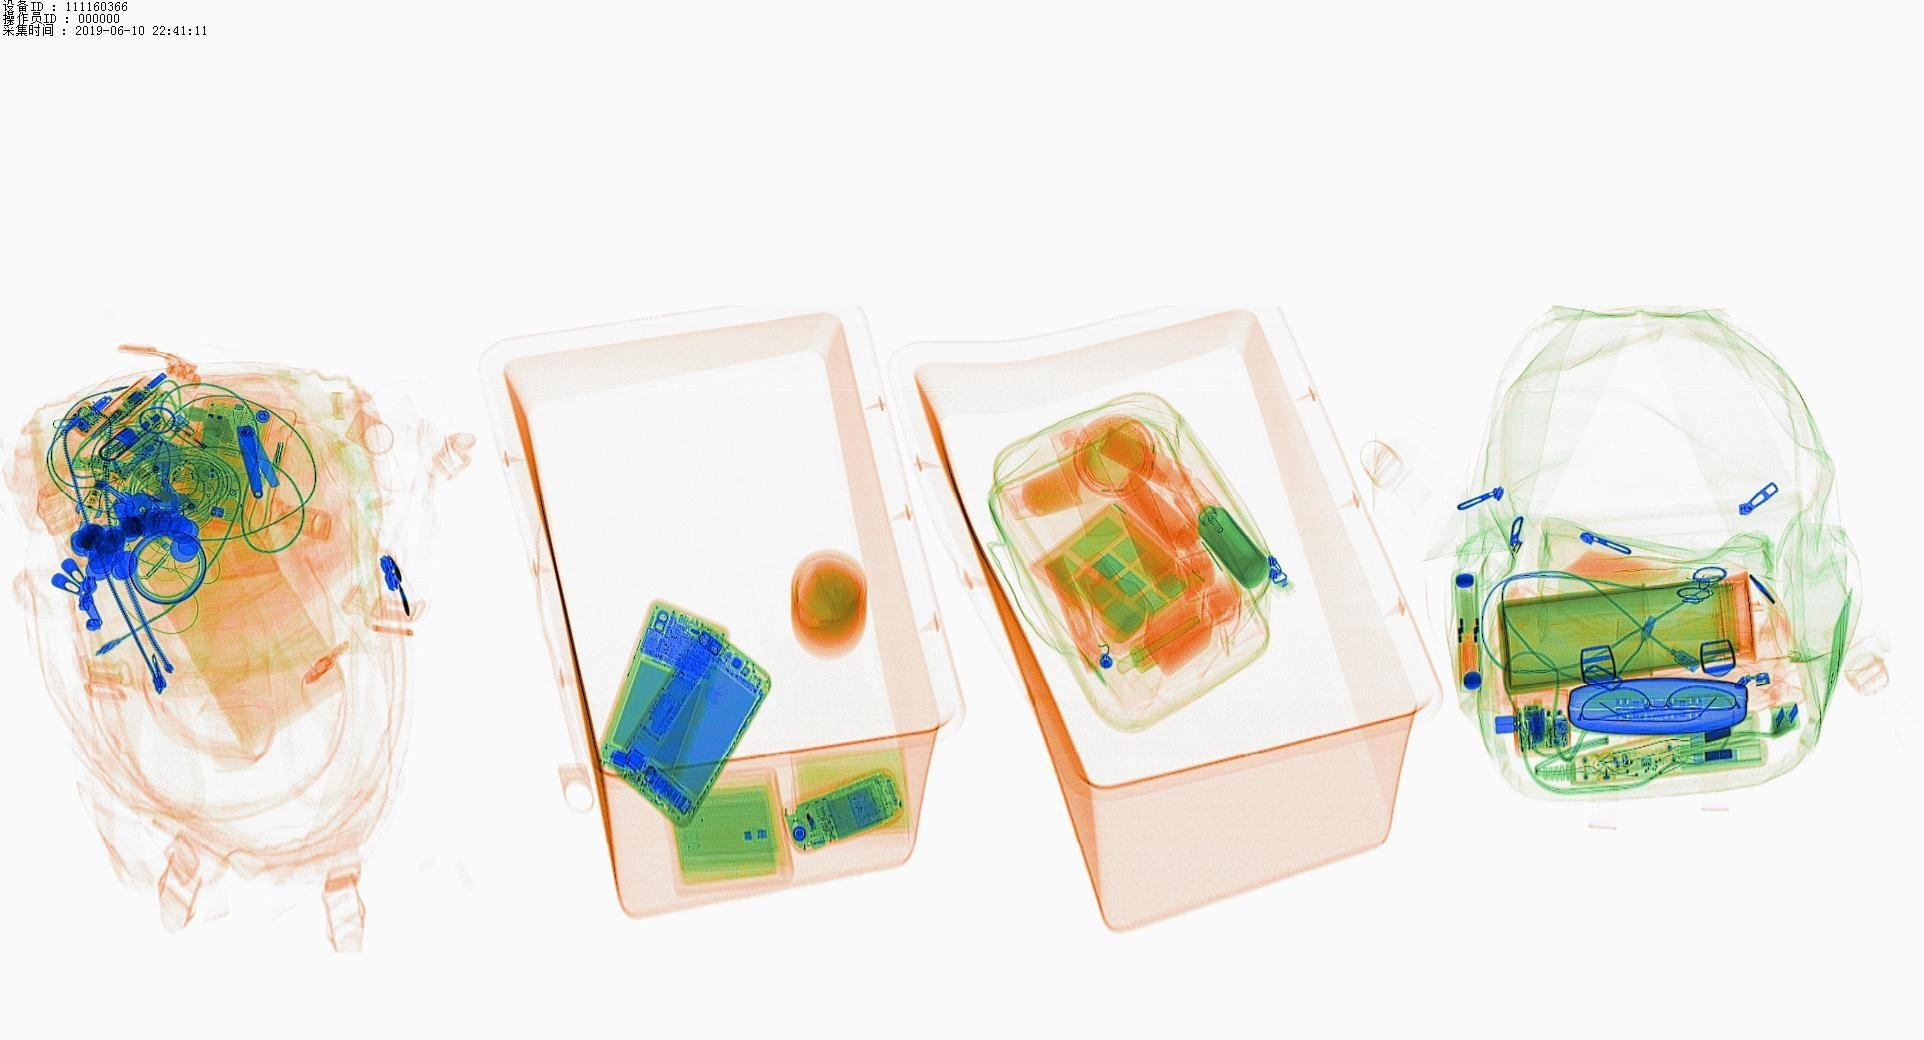NonmetallicFire: (142, 401, 257, 480)
